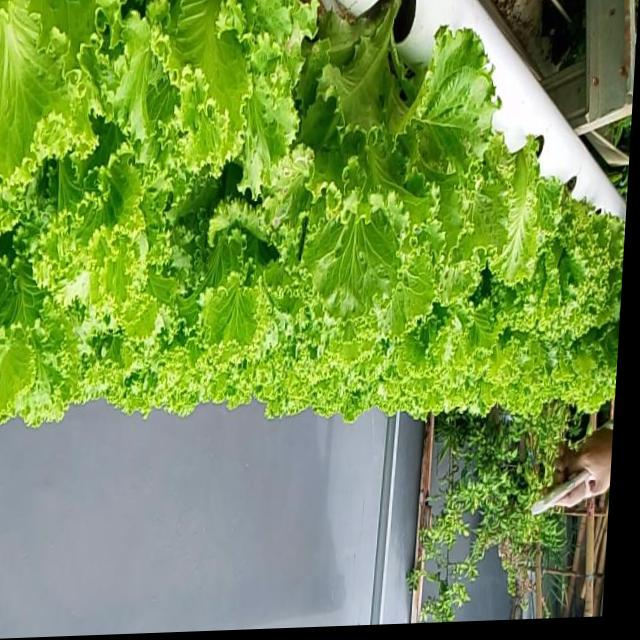Mature: (0, 0, 624, 422), (270, 6, 467, 303), (474, 152, 619, 364)
